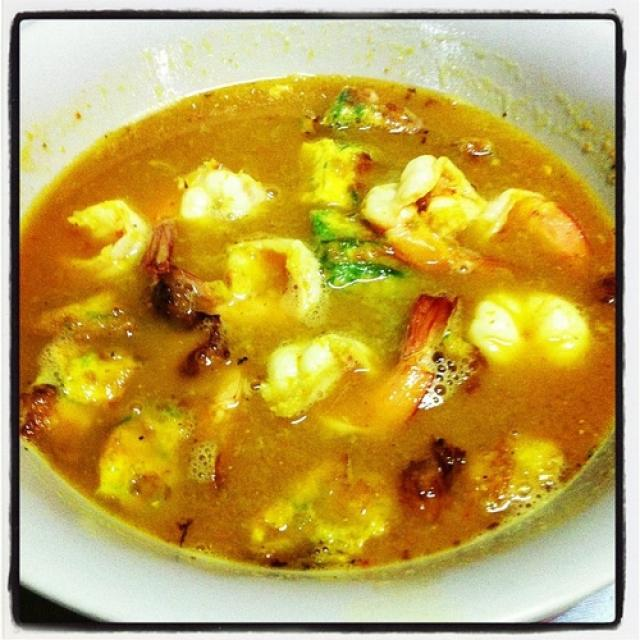汤锅炖物: (27, 32, 619, 611)
